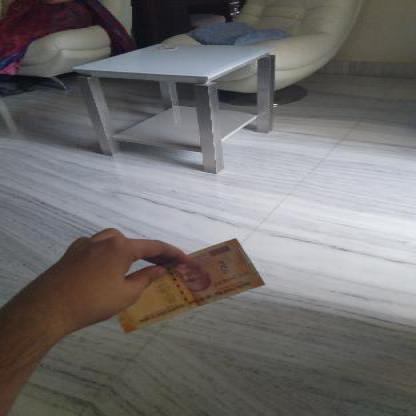New200Front: (111, 239, 268, 332)
